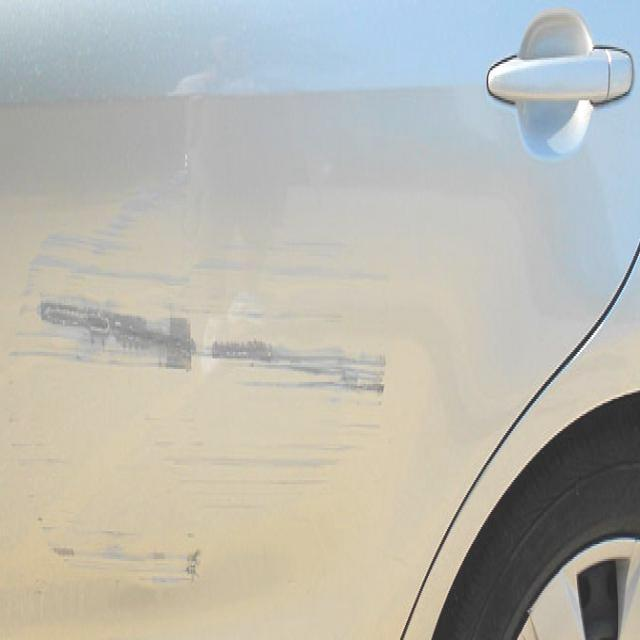minor: (160, 425, 380, 482)
moderate: (17, 231, 385, 398), (23, 518, 204, 592)
